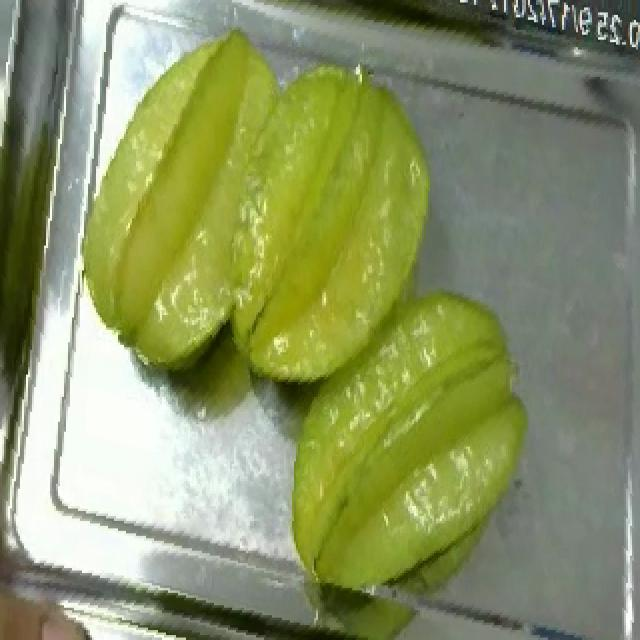fruit: (68, 17, 490, 402), (256, 263, 546, 623)
